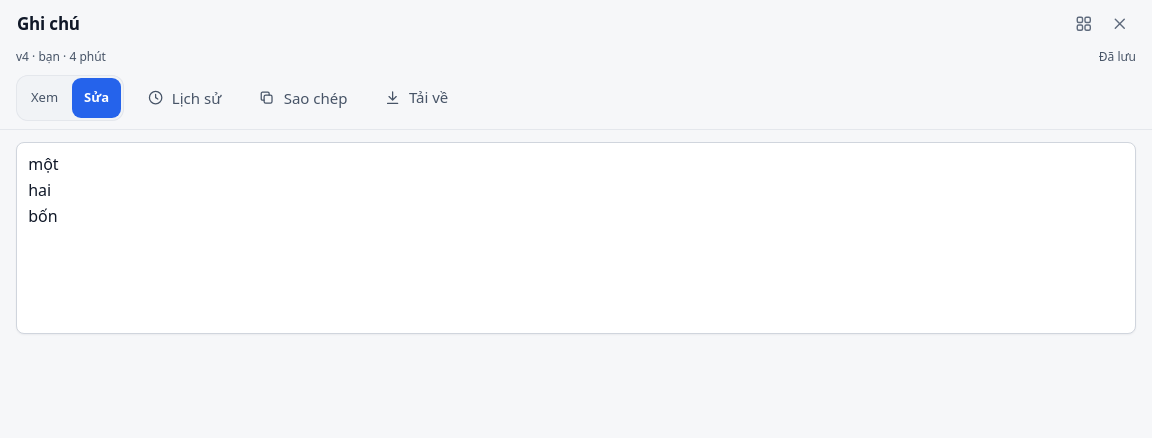
Test: the versions of a canvas › compares with the oldest version kept on request, and says the oldest has none before it
The image size is (1152, 438).
Click the button "Lịch sử": (184, 98) [132, 80, 236, 116]
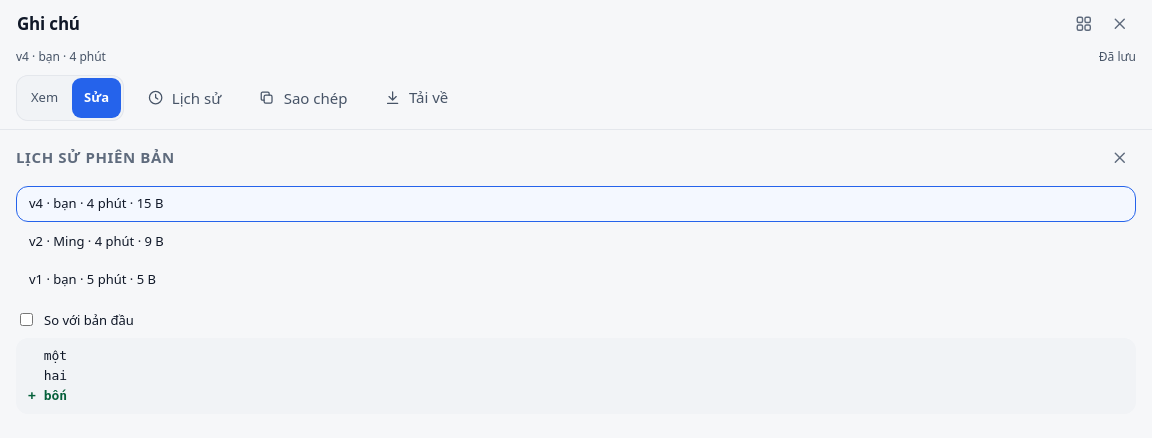
Click the checkbox labelled "So với bản đầu": (26, 320) [20, 313, 33, 326]
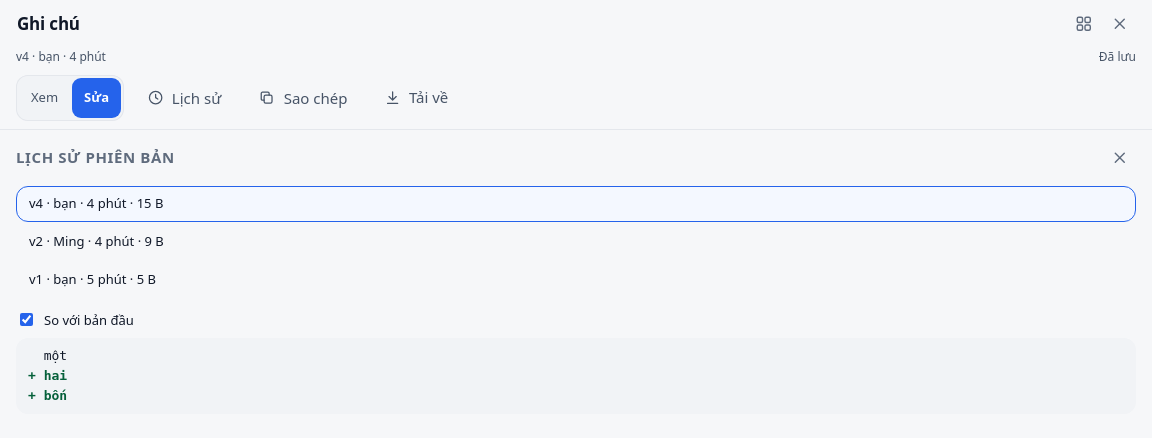
Expected: the element with class "canvas-diff" reads "một + hai + bốn", [16, 338, 1136, 414]
Click the button "v1 · bạn · 5 phút · 5 B": (92, 279) [16, 262, 1136, 298]
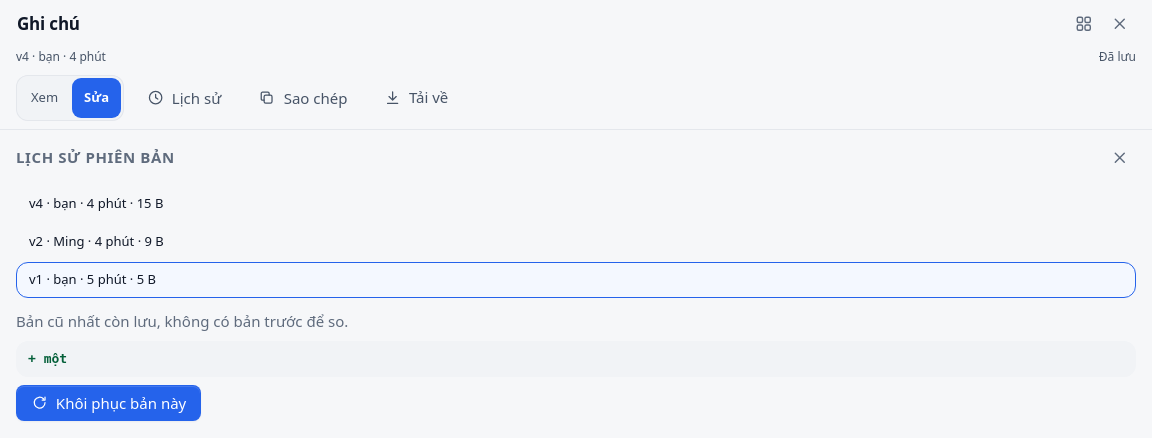
Expected: the checkbox is gone
Expected: the text "Bản cũ nhất còn lưu, không có bản trước để so." is shown, [16, 310, 348, 333]
Expected: the text "+ một" is shown, [28, 351, 67, 366]
